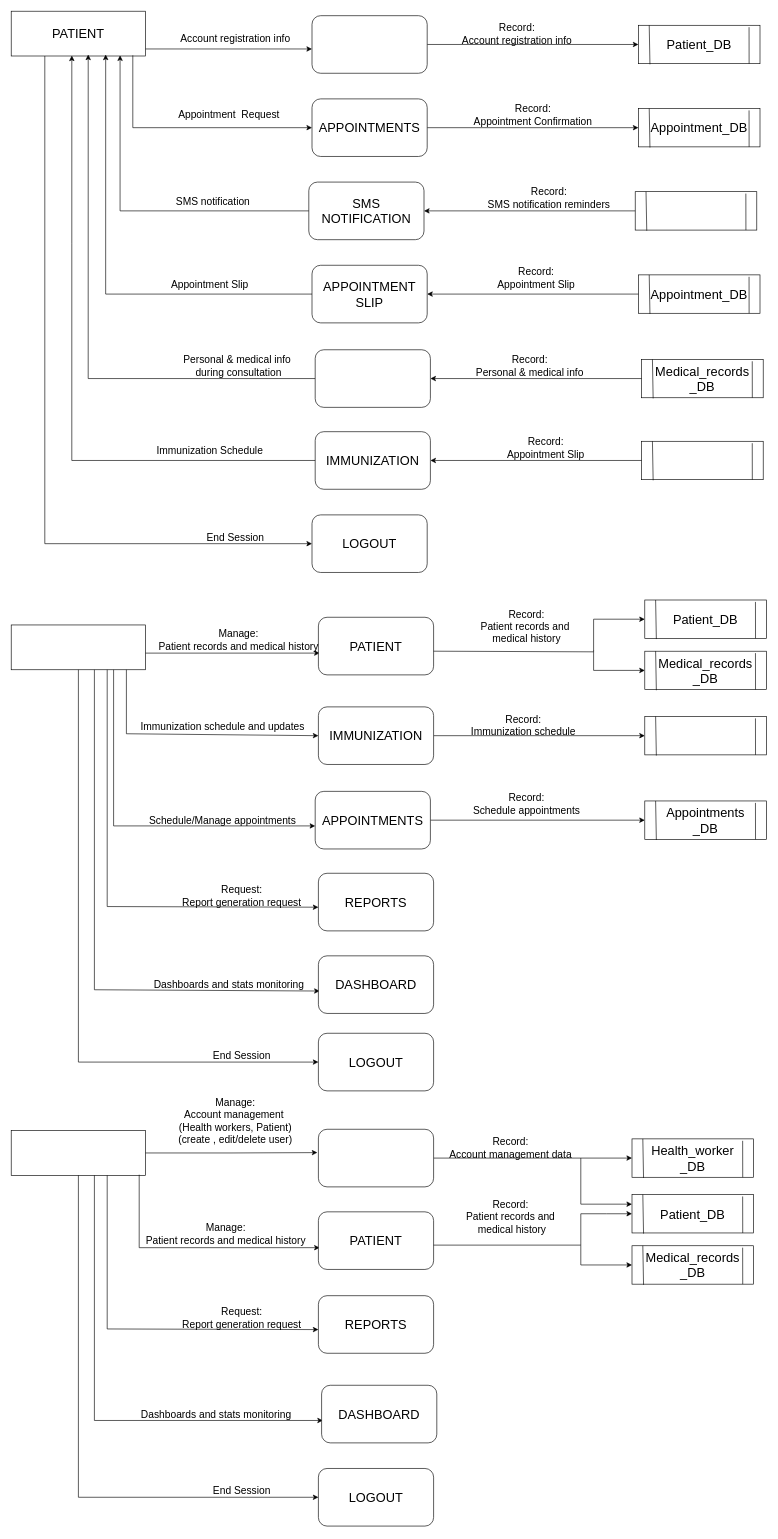
Some shapes in this 778 by 1539 pixel diagram are drawn without their labels. The centre of each missing label's shape, as x and y in pixels:
ACCOUNT: the point at 376,1158
ADMIN: the point at 78,1152
HEALTH WORKER: the point at 78,647
Immunization _DB: the point at 705,735
Immunization_DB: the point at 702,460
MEDICAL RECORDS: the point at 372,378
Notification_DB: the point at 696,210
REGISTER: the point at 369,44
